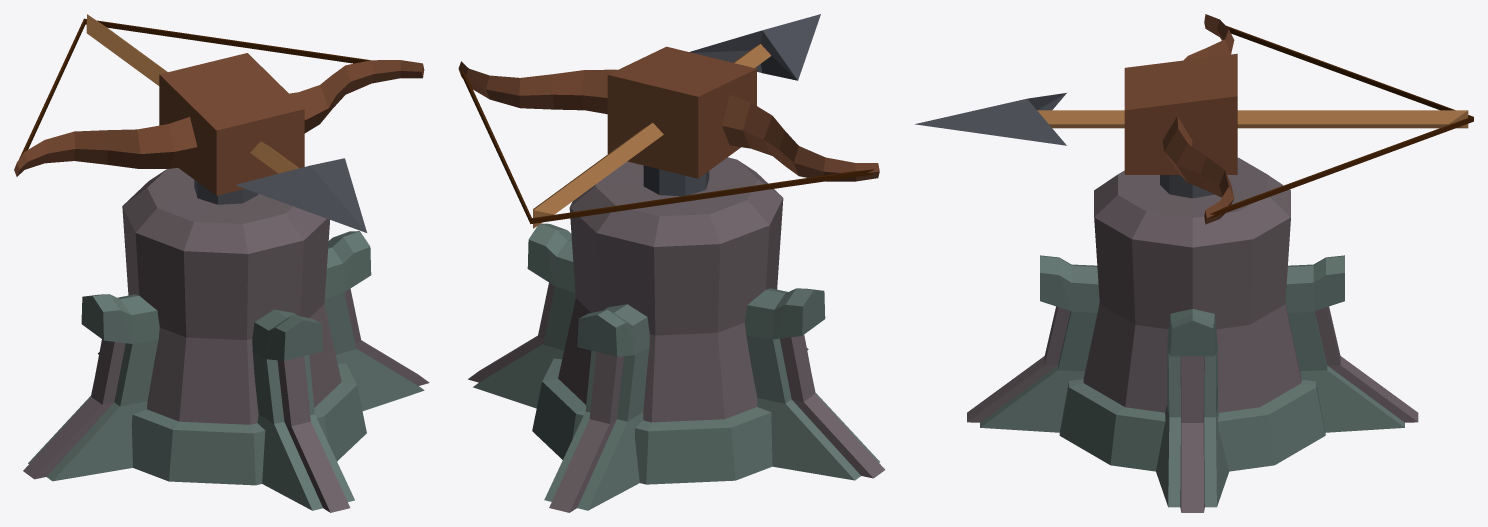
Rendered from ArrowTower.fbx.
The picture shows the model from 3 angles, left to right: view 1: azimuth 30°, elevation 25°; view 2: azimuth 150°, elevation 25°; view 3: azimuth 270°, elevation 25°; orthographic projection. The views are drawn at different scales.
Parts seen in each view (by area): view 1: Defense_set_1_021_rock_blue_0.001, Defense_set_1_021_rock_0.001, Defense_set_1_021_wood_dark_0.001, Defense_set_1_021_metal_0.001, Defense_set_1_021_rope_0.001, Defense_set_1_021_wood_0.001; view 2: Defense_set_1_021_rock_blue_0.001, Defense_set_1_021_rock_0.001, Defense_set_1_021_wood_dark_0.001, Defense_set_1_021_metal_0.001, Defense_set_1_021_wood_0.001, Defense_set_1_021_rope_0.001; view 3: Defense_set_1_021_rock_blue_0.001, Defense_set_1_021_rock_0.001, Defense_set_1_021_wood_dark_0.001, Defense_set_1_021_wood_0.001, Defense_set_1_021_metal_0.001, Defense_set_1_021_rope_0.001.
Part boxes in pixels (box(x1,y1,x2,y2)): Defense_set_1_021_rock_blue_0.001: box(23, 168, 429, 512); Defense_set_1_021_rock_0.001: box(28, 231, 424, 510); Defense_set_1_021_wood_dark_0.001: box(14, 53, 424, 195); Defense_set_1_021_metal_0.001: box(194, 158, 366, 232); Defense_set_1_021_rope_0.001: box(19, 18, 370, 158); Defense_set_1_021_wood_0.001: box(86, 14, 298, 173); Defense_set_1_021_rock_blue_0.001: box(468, 157, 884, 512); Defense_set_1_021_rock_0.001: box(473, 223, 879, 510); Defense_set_1_021_wood_dark_0.001: box(458, 46, 879, 181); Defense_set_1_021_metal_0.001: box(643, 14, 820, 196); Defense_set_1_021_wood_0.001: box(533, 44, 771, 228); Defense_set_1_021_rope_0.001: box(460, 68, 873, 223); Defense_set_1_021_rock_blue_0.001: box(967, 157, 1418, 512); Defense_set_1_021_rock_0.001: box(980, 255, 1404, 507); Defense_set_1_021_wood_dark_0.001: box(1124, 14, 1237, 224); Defense_set_1_021_wood_0.001: box(1037, 110, 1468, 128); Defense_set_1_021_metal_0.001: box(915, 93, 1214, 198); Defense_set_1_021_rope_0.001: box(1210, 25, 1473, 218).
Bounding box in the file's own units: 722 × 583 × 863.
